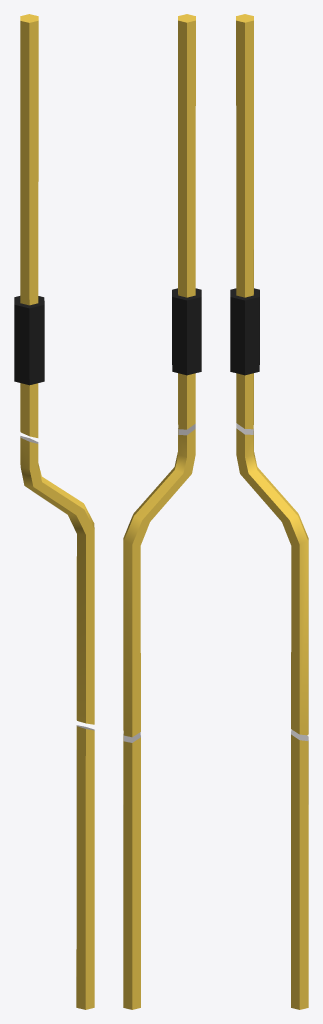
The model's file is Cot2_DEST.fbx.
3 renders of one model, left to right at view 1: azimuth 30°, elevation 25°; view 2: azimuth 210°, elevation 25°; view 3: azimuth 330°, elevation 25°, orthographic. The views are drawn at different scales.
Visible parts, largest first — view 1: cot3.001, cot3.002, cot3; view 2: cot3.001, cot3.002, cot3; view 3: cot3.001, cot3.002, cot3.
Part boxes in pixels (x1,y1,x2,y2): cot3.001: [14, 14, 44, 437]; cot3.002: [20, 436, 94, 724]; cot3: [76, 725, 94, 1009]; cot3.001: [172, 14, 201, 429]; cot3.002: [123, 424, 195, 737]; cot3: [123, 732, 140, 1009]; cot3.001: [230, 14, 259, 429]; cot3.002: [236, 423, 308, 735]; cot3: [291, 729, 308, 1009].
Bounding box in the file's own units: 305 × 3629 × 100.
